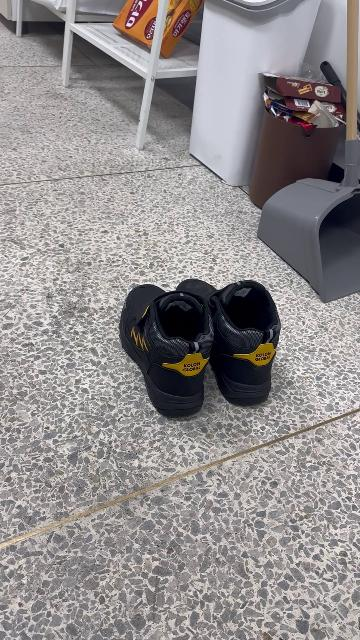shoe_worn: (177, 276, 282, 408), (121, 283, 216, 421)
